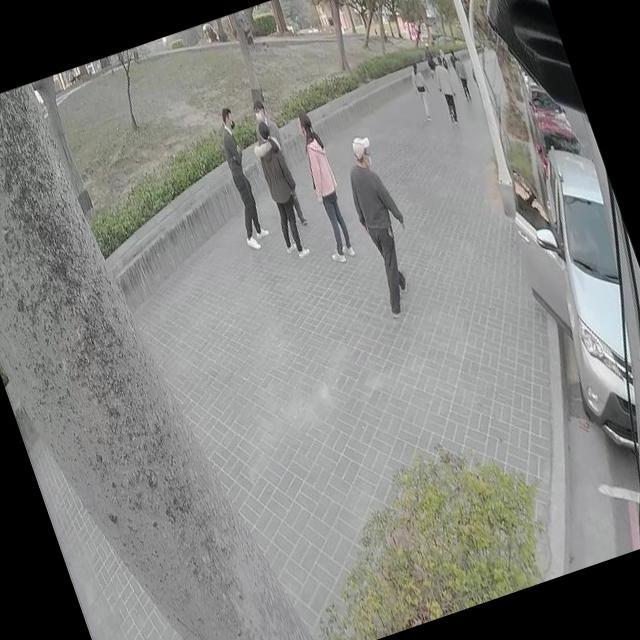person: (332, 126, 431, 315), (284, 102, 359, 262), (204, 106, 274, 247), (247, 91, 315, 235), (242, 122, 314, 258), (428, 54, 463, 123), (405, 59, 437, 120), (450, 52, 474, 100), (418, 40, 438, 77)
